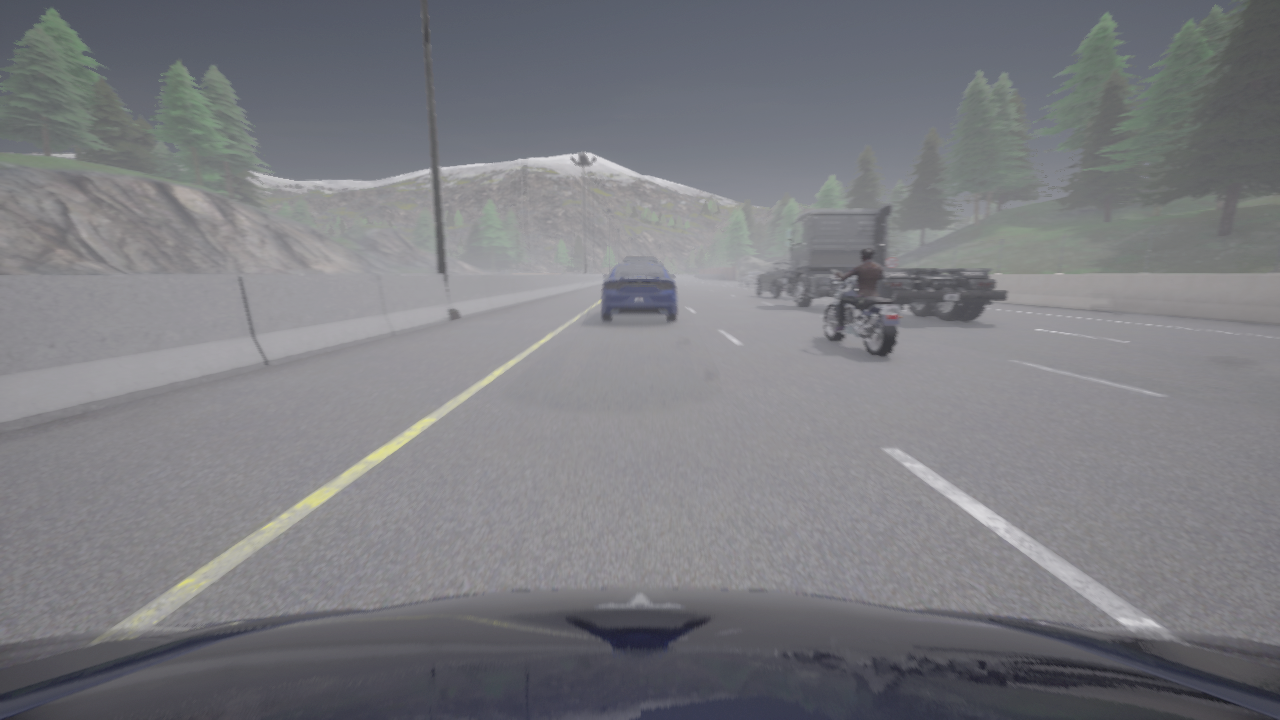cyclist: (0, 588, 1279, 719), (784, 205, 1007, 321), (823, 269, 902, 356), (602, 262, 676, 321), (754, 261, 790, 298), (739, 271, 761, 287), (621, 258, 662, 265), (667, 271, 669, 275)
